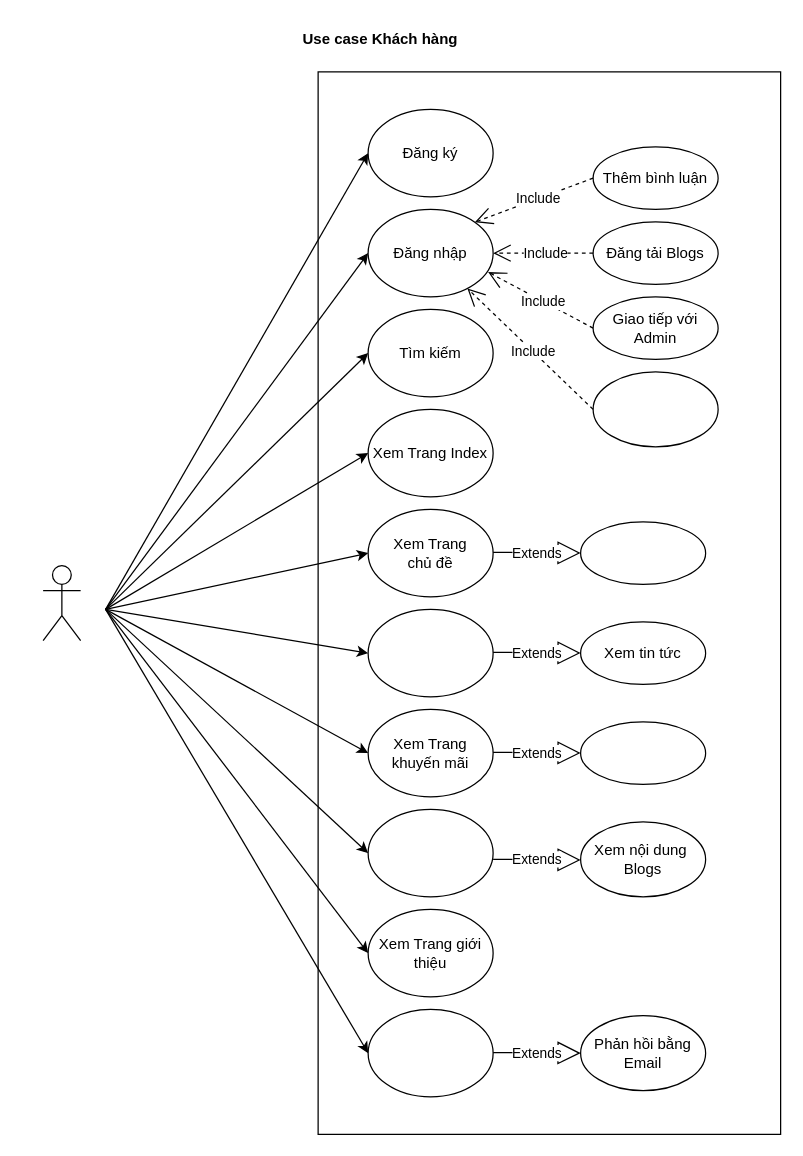
This 803x1156 diagram has some shape labels left out. Each missing label, with the centre of its shape:
"Khách hàng" goes at point (61, 602).
"Lọc theo chủ đề" goes at point (642, 552).
"Phản hồi với Công ty chủ quản" goes at point (655, 409).
"Xem chi tiết Tour" goes at point (642, 752).
"Xem Trang Blog của khách hàng" goes at point (430, 852).
"Xem Trang liên hệ" goes at point (430, 1052).
"Xem Trang tin tức" goes at point (430, 652).
